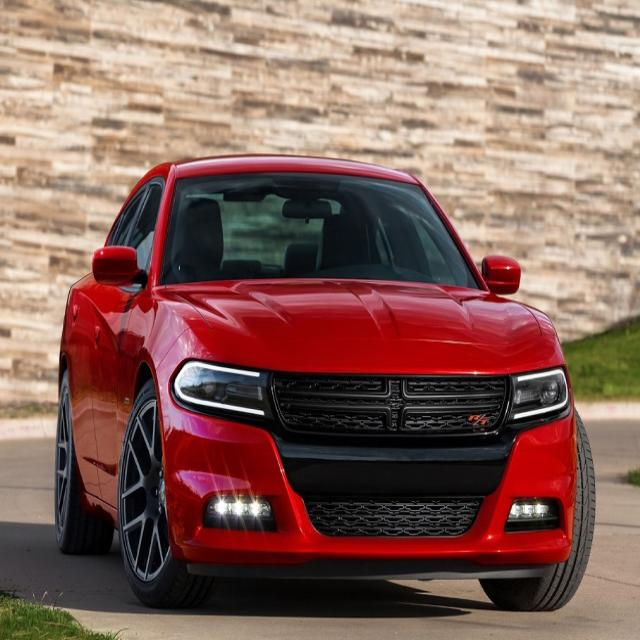front_bumper: (154, 382, 579, 570)
front_glass: (155, 171, 490, 287)
front_left_side_light: (508, 366, 570, 422)
front_left_side_mirror: (479, 252, 523, 294)
front_right_side_door: (89, 162, 170, 522)
front_right_side_light: (170, 355, 271, 425)
front_right_side_mirror: (91, 244, 148, 292)
wheel: (119, 386, 197, 604), (56, 376, 110, 553)
